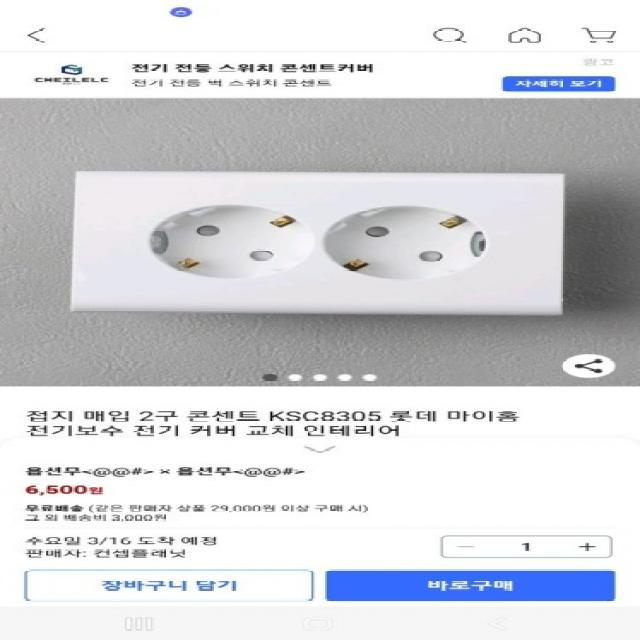typeb: (34, 154, 616, 338)
